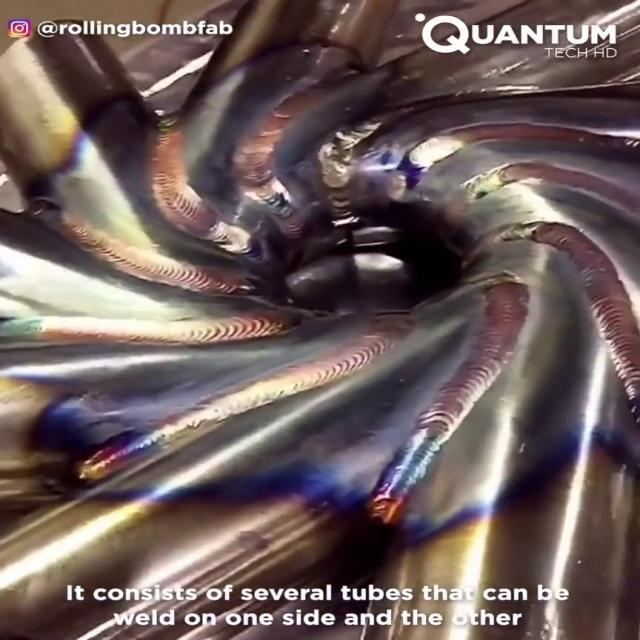Good Weld: (416, 252, 640, 422), (137, 122, 345, 274), (394, 88, 622, 201), (110, 355, 374, 418), (50, 300, 348, 344)
